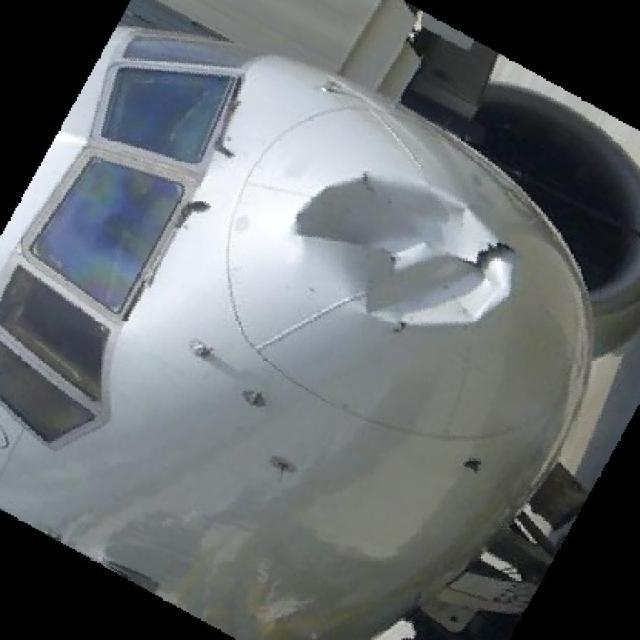dent: (289, 170, 522, 332)
